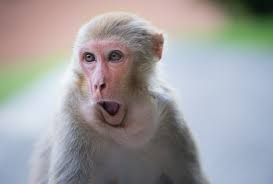monkey: (23, 30, 268, 167)
